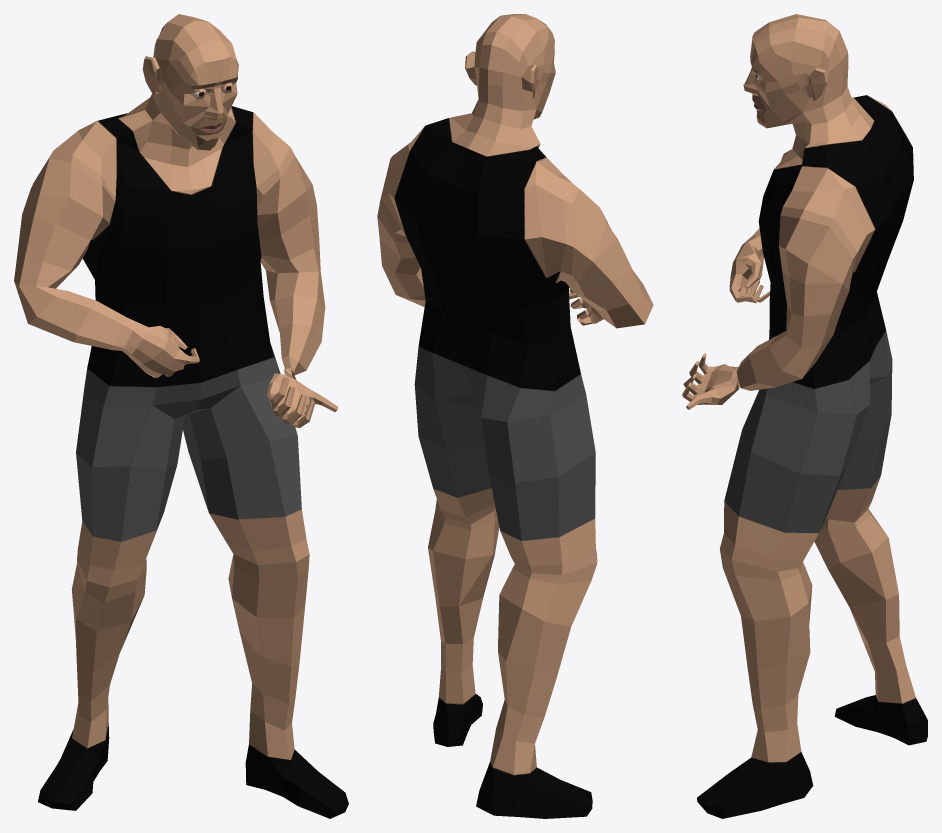
File: PlayerIdle(197).obj
The picture shows the model from 3 angles, left to right: view 1: azimuth 30°, elevation 25°; view 2: azimuth 150°, elevation 25°; view 3: azimuth 270°, elevation 25°; orthographic projection. The views are drawn at different scales.
Parts seen in each view (by area): view 1: Plane002; view 2: Plane002; view 3: Plane002.
Part boxes in pixels (left/top/right/bottom): Plane002: left=14, top=14, right=348, bottom=818; Plane002: left=377, top=14, right=653, bottom=818; Plane002: left=682, top=14, right=927, bottom=818.
Size of the model in its own units: 686 by 1798 by 536.
